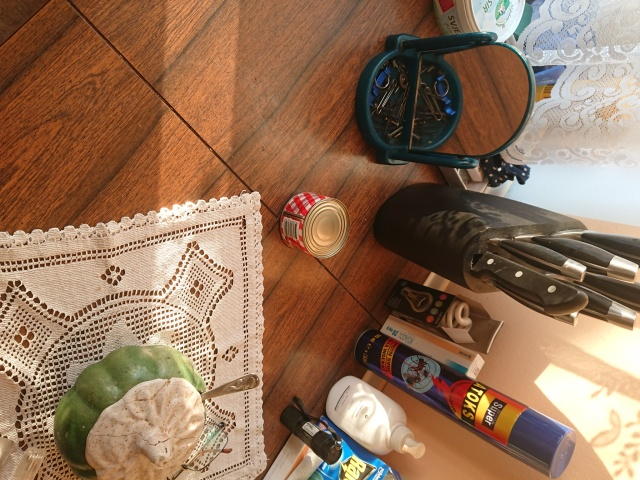Podravka Luncheon Meat 150g: (276, 189, 353, 262)
